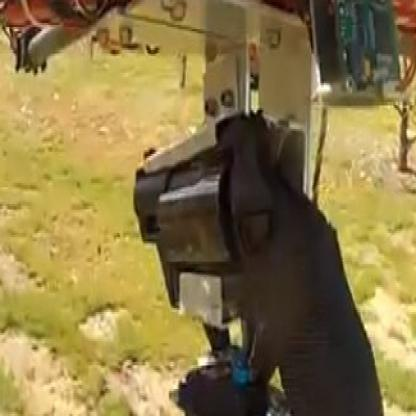gun: (138, 146, 389, 414)
